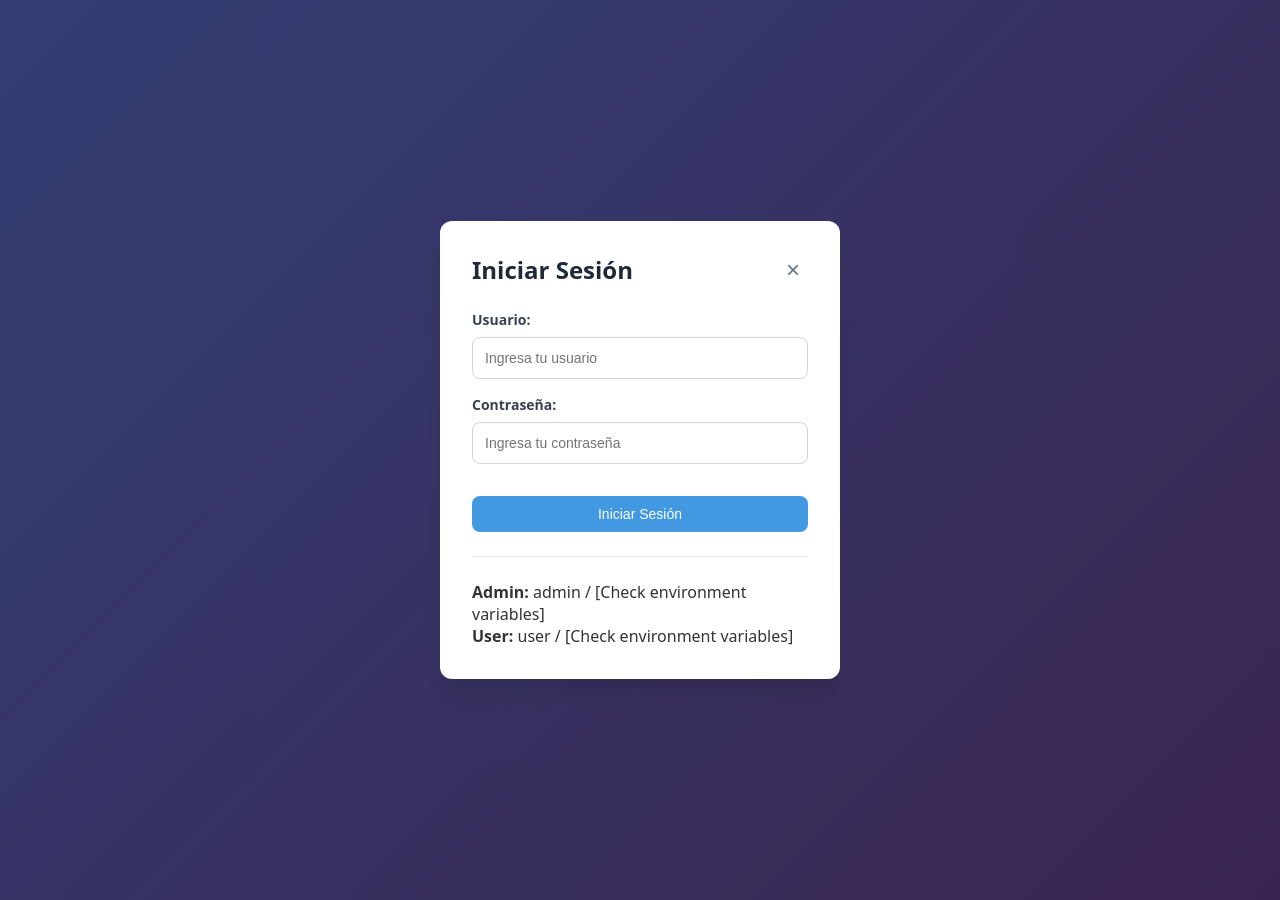
Test: Login Component › shows loading state during submission
Step 1. Type "admin" into the field labelled "Usuario:" → (640, 358), box [472, 337, 808, 379]
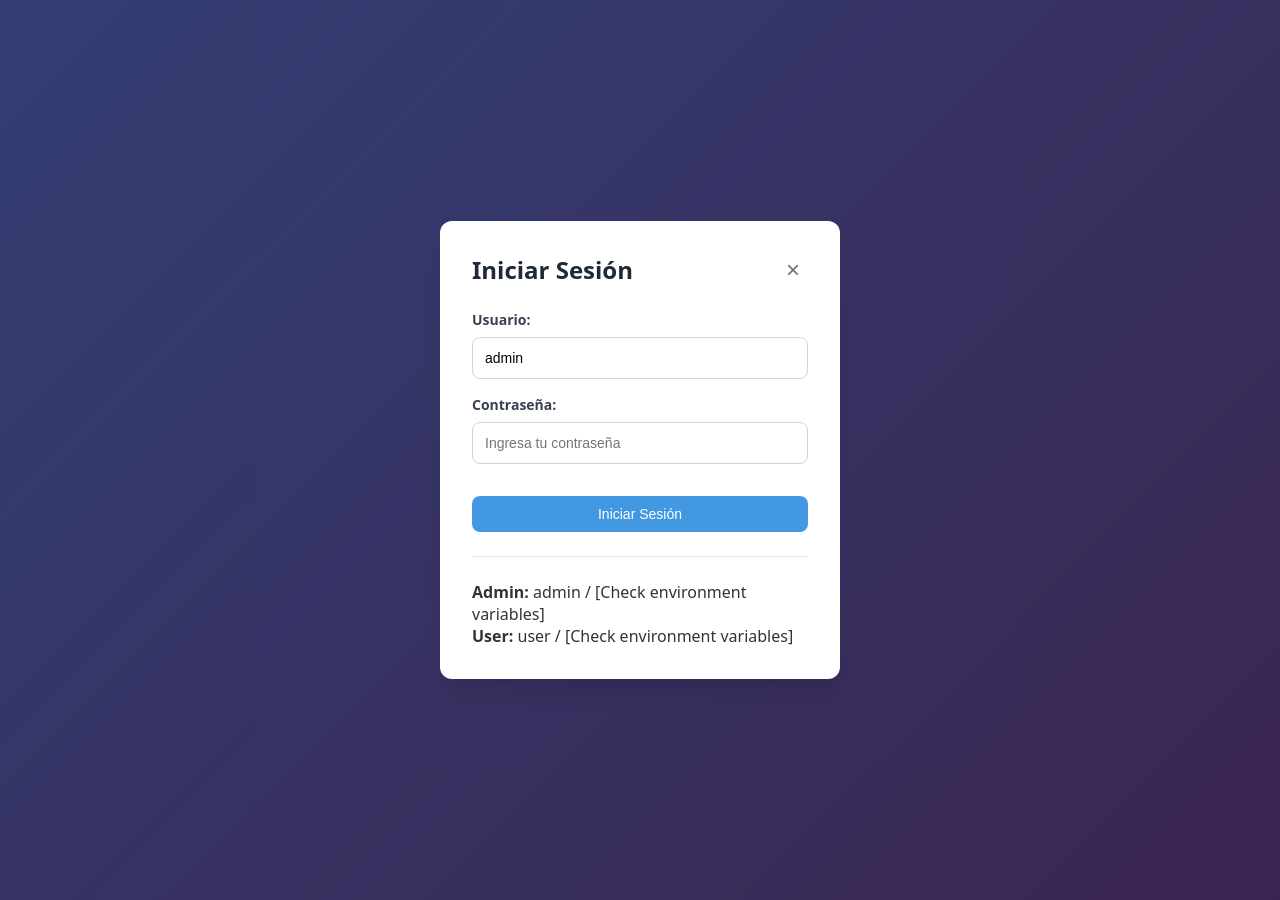
Step 2. Type "admin123" into the password field labelled "Contraseña:" → (640, 443), box [472, 422, 808, 464]
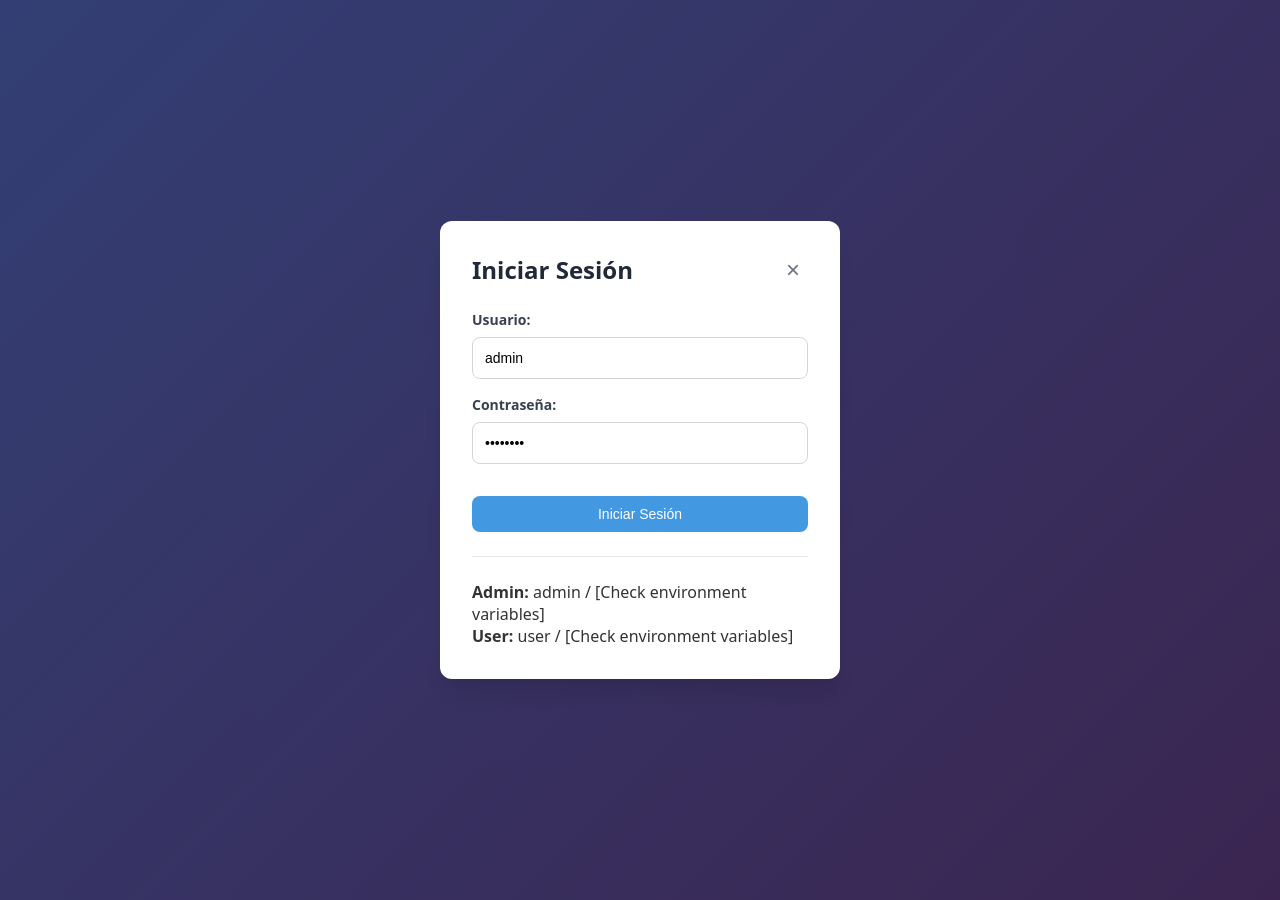
Step 3. Click the button with test id "login-submit" → (640, 514), box [472, 496, 808, 532]
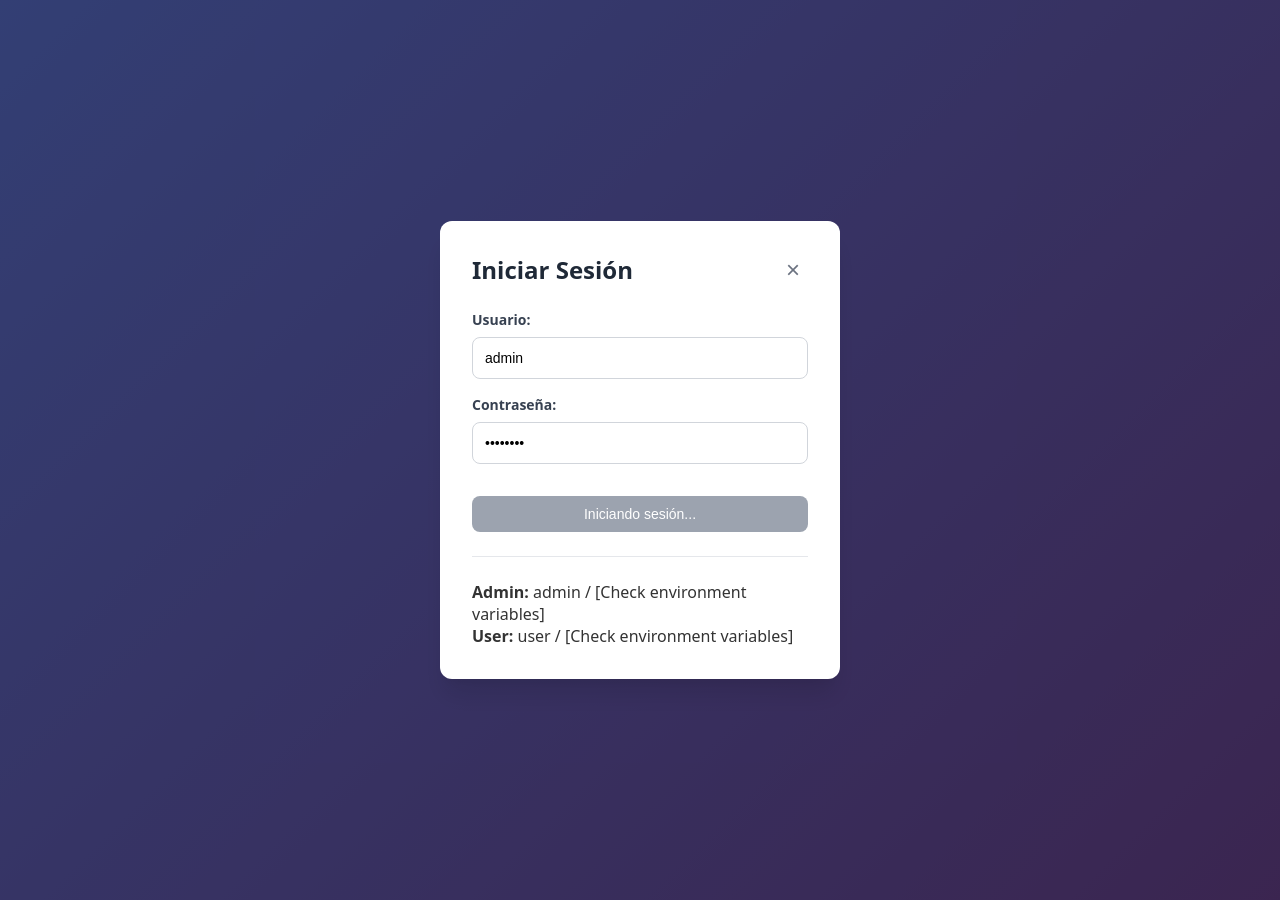
Now the button "Iniciando sesión..." is disabled, box [472, 496, 808, 532]
